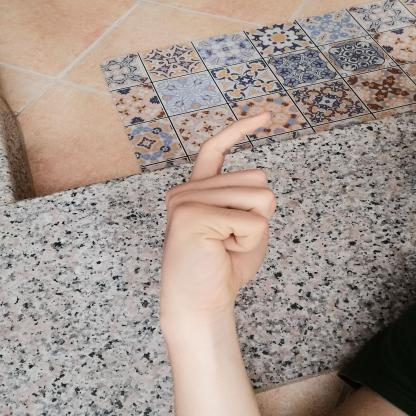RAA: (140, 102, 286, 318)
